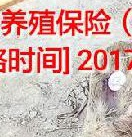text: (102, 66, 131, 96)
